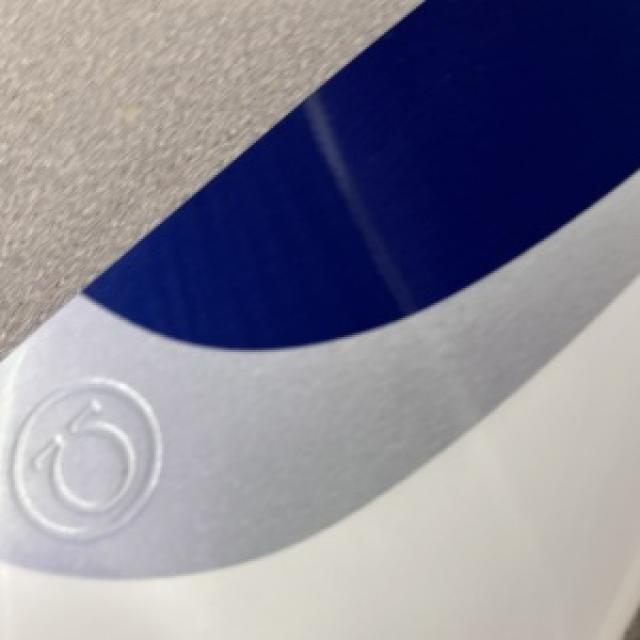healthy: (0, 279, 638, 638)
